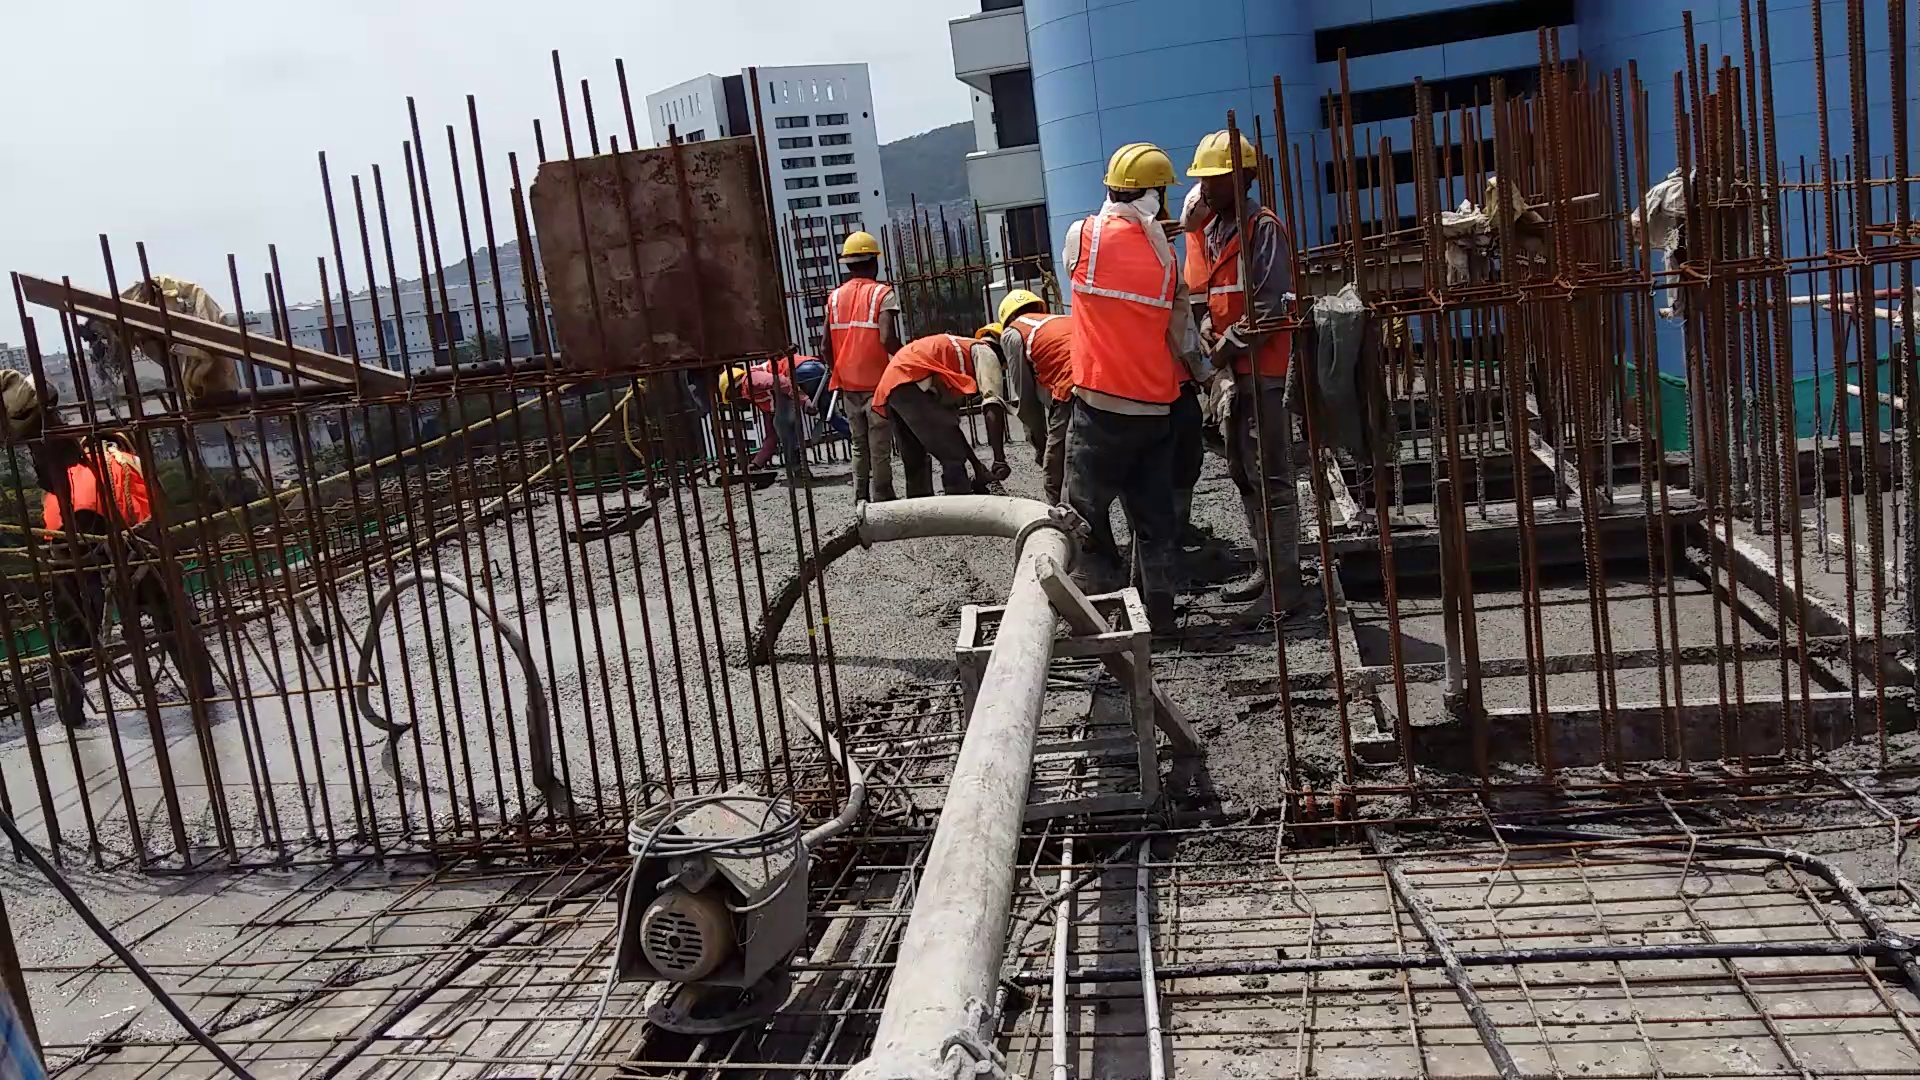SAFE: (1067, 140, 1184, 411), (828, 223, 881, 407), (993, 280, 1060, 398)
